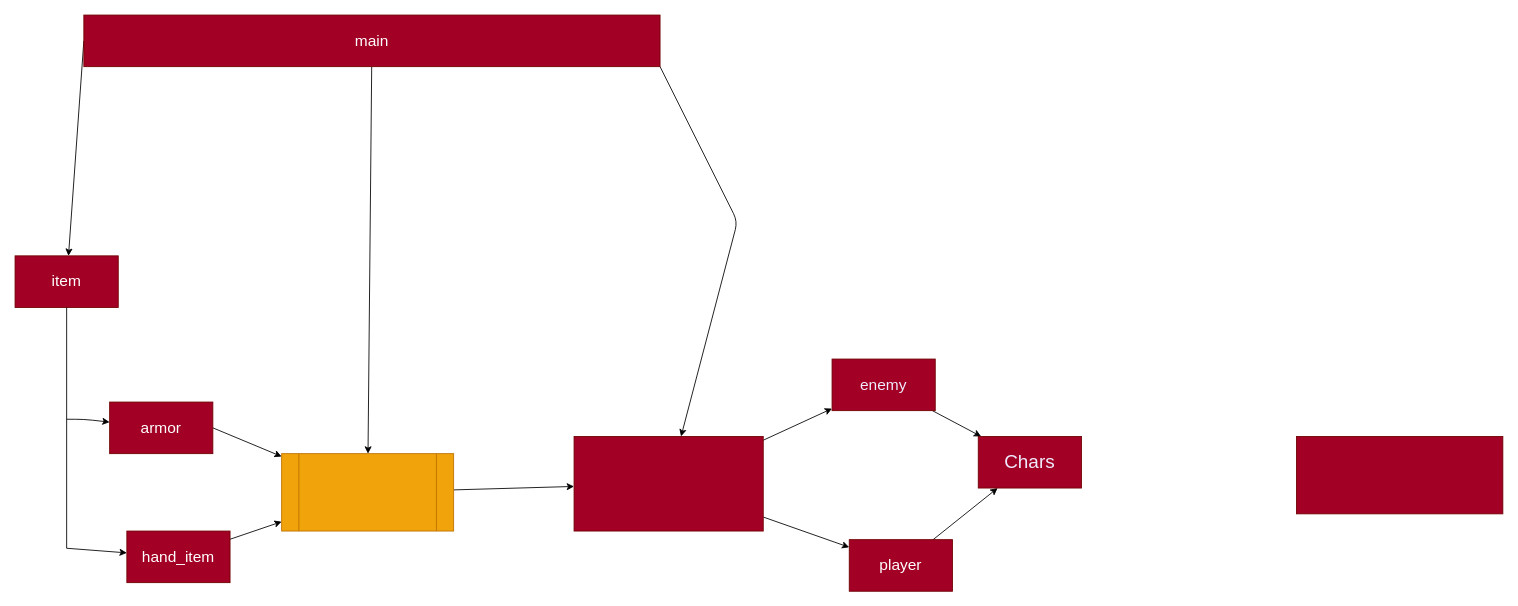
This 1518x606 diagram has some shape labels left out. The centre of each missing label's shape, as x and y in pixels:
"character" belongs at (668,483).
"codex" belongs at (367,492).
"GUI" belongs at (1399,475).
